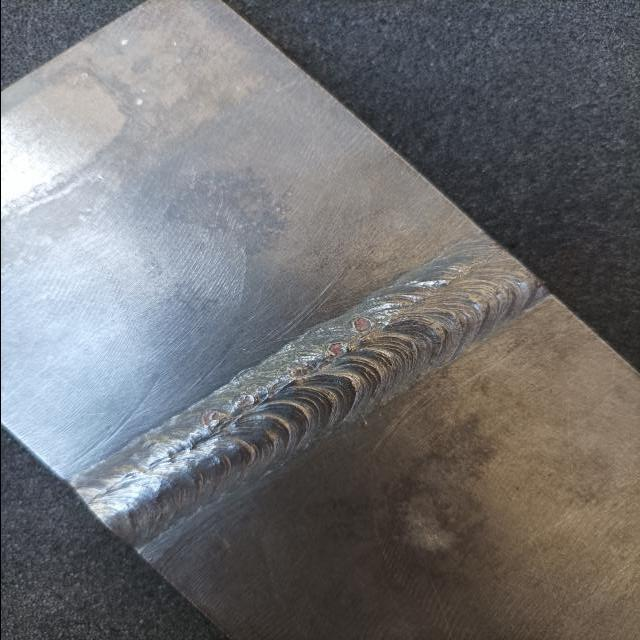defect: (323, 337, 355, 358), (349, 315, 376, 336), (234, 391, 265, 407), (201, 406, 221, 424), (430, 277, 451, 290)
